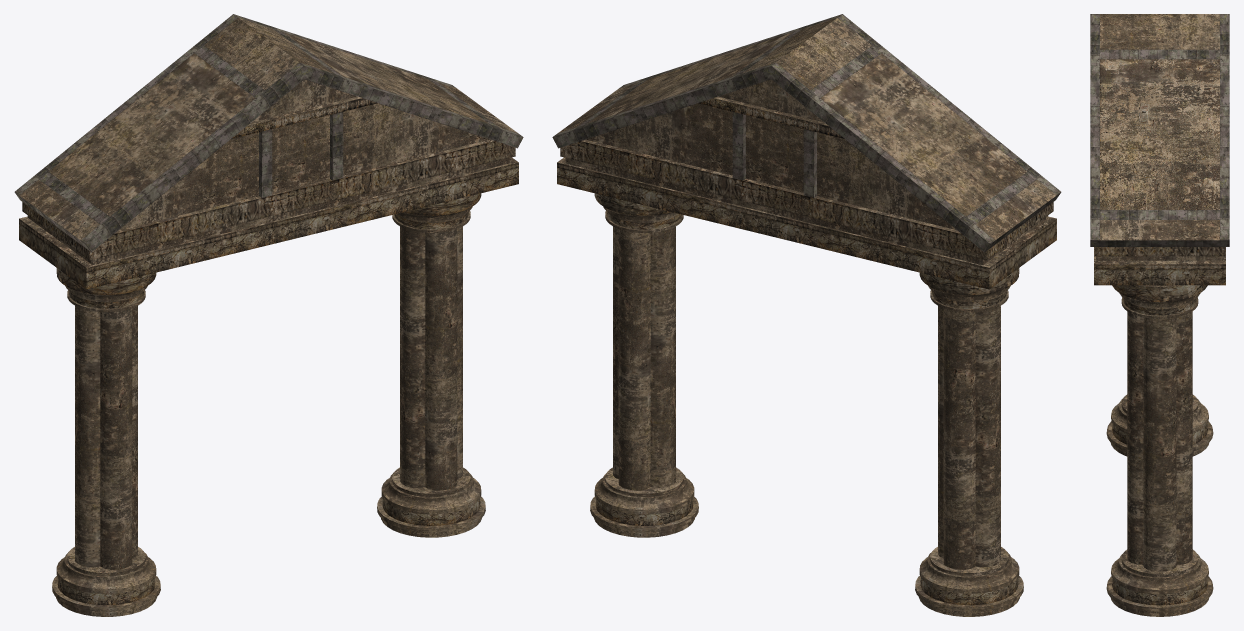
Rendered from materials_5_gate_1.fbx.
3 views of the same model, side by side, from view 1: azimuth 30°, elevation 25°; view 2: azimuth 150°, elevation 25°; view 3: azimuth 270°, elevation 25° (orthographic). The views are drawn at different scales.
Parts seen in each view (by area): view 1: materials_5_gate_1; view 2: materials_5_gate_1; view 3: materials_5_gate_1.
Part boxes in pixels (x1,y1,x2,y2): materials_5_gate_1: (14, 14, 523, 616); materials_5_gate_1: (552, 14, 1061, 616); materials_5_gate_1: (1090, 14, 1229, 616).
Size of the model in its own units: 617 by 694 by 174.
